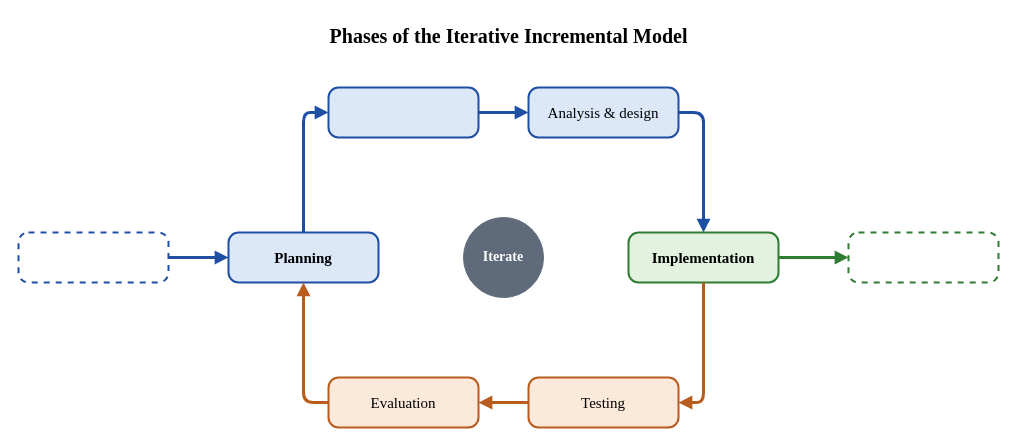
Image size: 1016x445. Some labels were removed from this diagram. Here are the shapes that lost their labels. From the top down, the centre of each, then its label:
the point at 403,112: Requirements
the point at 93,257: Initial planning
the point at 923,257: Deployment
